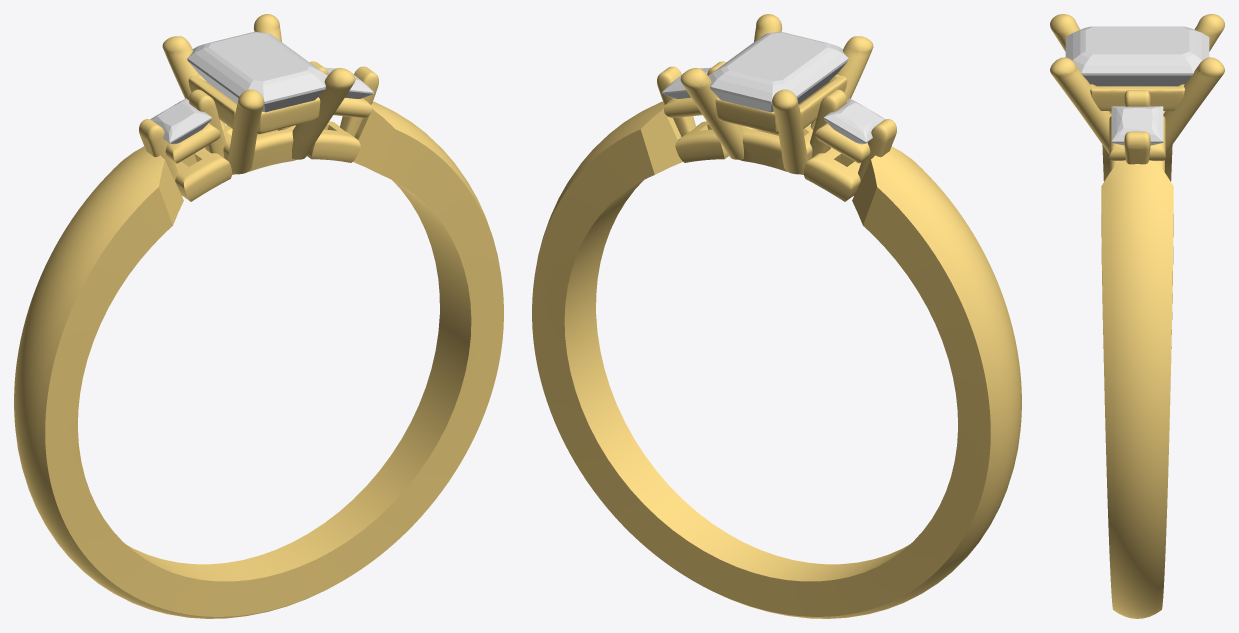
File: Peter_&_Carina_v3_blender.glb
3 views of the same model, side by side, from view 1: azimuth 30°, elevation 25°; view 2: azimuth 150°, elevation 25°; view 3: azimuth 270°, elevation 25° (orthographic).
Parts seen in each view (by area): view 1: em version 3 YG for 3d model.008, em version 3 dia for 3d model.002, em version 3 YG for 3d model.009, em version 3 YG for 3d model.011, em version 3 YG for 3d model.010, em version 3 YG for 3d model.007, em version 3 YG for 3d model.014, em version 3 dia for 3d model.001, em version 3 YG for 3d model.003, em version 3 YG for 3d model.012, em version 3 YG for 3d model.006, em version 3 YG for 3d model.005 (+2 smaller); view 2: em version 3 YG for 3d model.008, em version 3 dia for 3d model.002, em version 3 YG for 3d model.009, em version 3 YG for 3d model.013, em version 3 YG for 3d model.012, em version 3 YG for 3d model.007, em version 3 YG for 3d model.014, em version 3 dia for 3d model.001, em version 3 YG for 3d model.003, em version 3 YG for 3d model.010, em version 3 YG for 3d model.006, em version 3 YG for 3d model.005 (+2 smaller); view 3: em version 3 YG for 3d model.008, em version 3 dia for 3d model.002, em version 3 YG for 3d model.011, em version 3 YG for 3d model.013, em version 3 dia for 3d model, em version 3 YG for 3d model.009, em version 3 YG for 3d model.001, em version 3 YG for 3d model.002, em version 3 YG for 3d model.010, em version 3 YG for 3d model.012, em version 3 YG for 3d model.
Boxes of the visible parts, box(x1,y1,x2,y2) form: em version 3 YG for 3d model.008: box(14, 101, 503, 618); em version 3 dia for 3d model.002: box(187, 31, 327, 112); em version 3 YG for 3d model.009: box(188, 74, 320, 133); em version 3 YG for 3d model.011: box(292, 68, 355, 159); em version 3 YG for 3d model.010: box(227, 89, 263, 174); em version 3 YG for 3d model.007: box(175, 147, 231, 201); em version 3 YG for 3d model.014: box(223, 125, 296, 174); em version 3 dia for 3d model.001: box(150, 98, 212, 144); em version 3 YG for 3d model.003: box(307, 121, 360, 162); em version 3 YG for 3d model.012: box(162, 36, 225, 129); em version 3 YG for 3d model.006: box(165, 123, 220, 163); em version 3 YG for 3d model.005: box(139, 119, 181, 195); em version 3 YG for 3d model.008: box(532, 101, 1021, 618); em version 3 dia for 3d model.002: box(708, 31, 848, 112); em version 3 YG for 3d model.009: box(715, 74, 847, 133); em version 3 YG for 3d model.013: box(680, 68, 743, 159); em version 3 YG for 3d model.012: box(772, 89, 808, 174); em version 3 YG for 3d model.007: box(804, 147, 860, 201); em version 3 YG for 3d model.014: box(739, 125, 812, 174); em version 3 dia for 3d model.001: box(823, 98, 885, 144); em version 3 YG for 3d model.003: box(675, 121, 728, 162); em version 3 YG for 3d model.010: box(810, 36, 873, 129); em version 3 YG for 3d model.006: box(815, 123, 870, 163); em version 3 YG for 3d model.005: box(854, 119, 896, 195); em version 3 YG for 3d model.008: box(1101, 145, 1173, 618); em version 3 dia for 3d model.002: box(1065, 26, 1209, 86); em version 3 YG for 3d model.011: box(1050, 57, 1111, 153); em version 3 YG for 3d model.013: box(1163, 57, 1224, 153); em version 3 dia for 3d model: box(1111, 106, 1163, 145); em version 3 YG for 3d model.009: box(1090, 84, 1184, 110); em version 3 YG for 3d model.001: box(1124, 131, 1150, 164); em version 3 YG for 3d model.002: box(1109, 116, 1165, 160); em version 3 YG for 3d model.010: box(1050, 14, 1080, 51); em version 3 YG for 3d model.012: box(1194, 14, 1224, 51); em version 3 YG for 3d model: box(1124, 90, 1150, 106).
Bounding box in the file's own units: 21.15 × 23.73 × 6.76.
